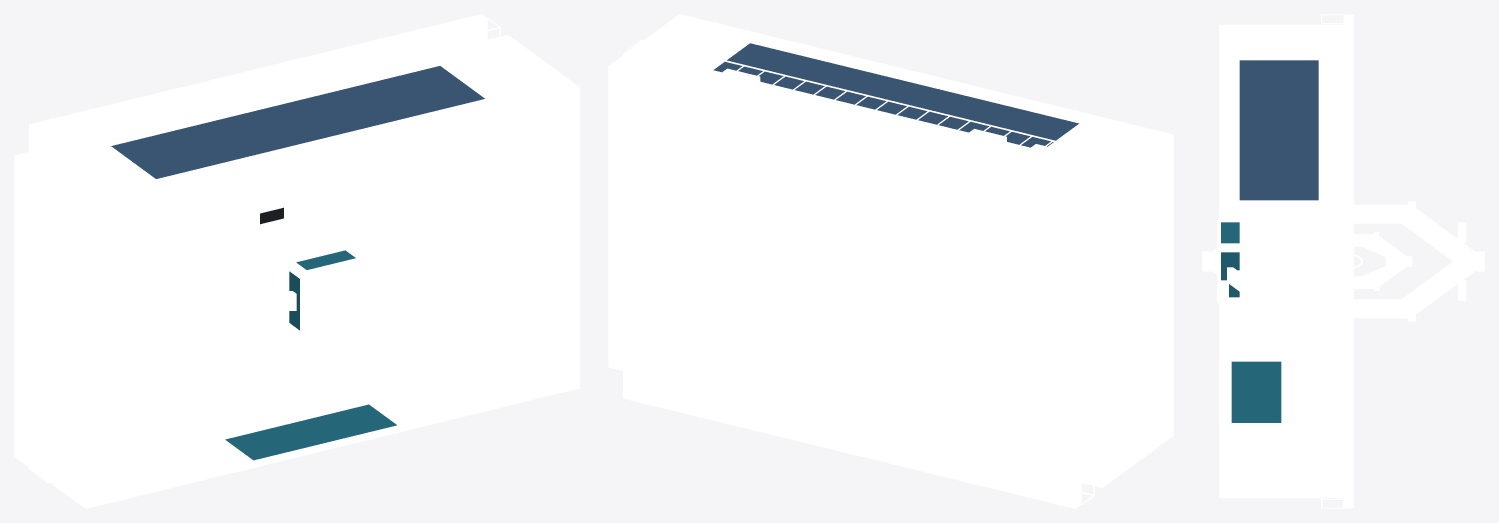
Rendered from minigames.glb.
3 views of the same model, side by side, from view 1: azimuth 30°, elevation 25°; view 2: azimuth 150°, elevation 25°; view 3: azimuth 270°, elevation 25° (orthographic). The views are drawn at different scales.
Visible parts, largest first — view 1: mg_lab_shell, mg_rooftop_studio, mg_triage_hall, mg_rack_tower, mg_beat_gate, mg_wave_ribbon; view 2: mg_rooftop_studio, mg_triage_hall, mg_lab_shell, mg_beat_gate, mg_beat_ring, mg_intake_ring; view 3: mg_lab_shell, mg_triage_hall, mg_rooftop_studio, mg_beat_gate, mg_rack_tower, mg_beat_ring, mg_intake_ring.
Part boxes in pixels (x1=…): mg_lab_shell: x1=55, y1=51, x2=538, y2=498; mg_rooftop_studio: x1=29, y1=14, x2=514, y2=483; mg_triage_hall: x1=14, y1=35, x2=579, y2=508; mg_rack_tower: x1=226, y1=200, x2=364, y2=338; mg_beat_gate: x1=121, y1=202, x2=424, y2=324; mg_wave_ribbon: x1=166, y1=220, x2=372, y2=275; mg_rooftop_studio: x1=623, y1=39, x2=1131, y2=508; mg_triage_hall: x1=608, y1=14, x2=1173, y2=487; mg_lab_shell: x1=677, y1=24, x2=1132, y2=462; mg_beat_gate: x1=692, y1=244, x2=965, y2=355; mg_beat_ring: x1=775, y1=263, x2=905, y2=311; mg_intake_ring: x1=790, y1=263, x2=901, y2=309; mg_lab_shell: x1=1219, y1=42, x2=1343, y2=480; mg_triage_hall: x1=1219, y1=24, x2=1343, y2=498; mg_rooftop_studio: x1=1259, y1=14, x2=1353, y2=508; mg_beat_gate: x1=1202, y1=201, x2=1484, y2=329; mg_rack_tower: x1=1217, y1=220, x2=1343, y2=302; mg_beat_ring: x1=1296, y1=232, x2=1412, y2=290; mg_intake_ring: x1=1300, y1=234, x2=1396, y2=280.
Bounding box in the file's own units: 24 × 16.08 × 13.6.
